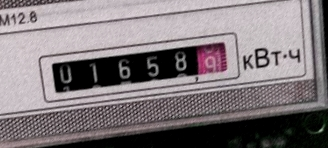0: (58, 61, 74, 85)
1: (88, 60, 101, 83)
5: (144, 53, 162, 77)
6: (116, 56, 133, 80)
8: (172, 48, 189, 72)
9: (201, 53, 218, 76)
screen: (32, 22, 250, 111)
